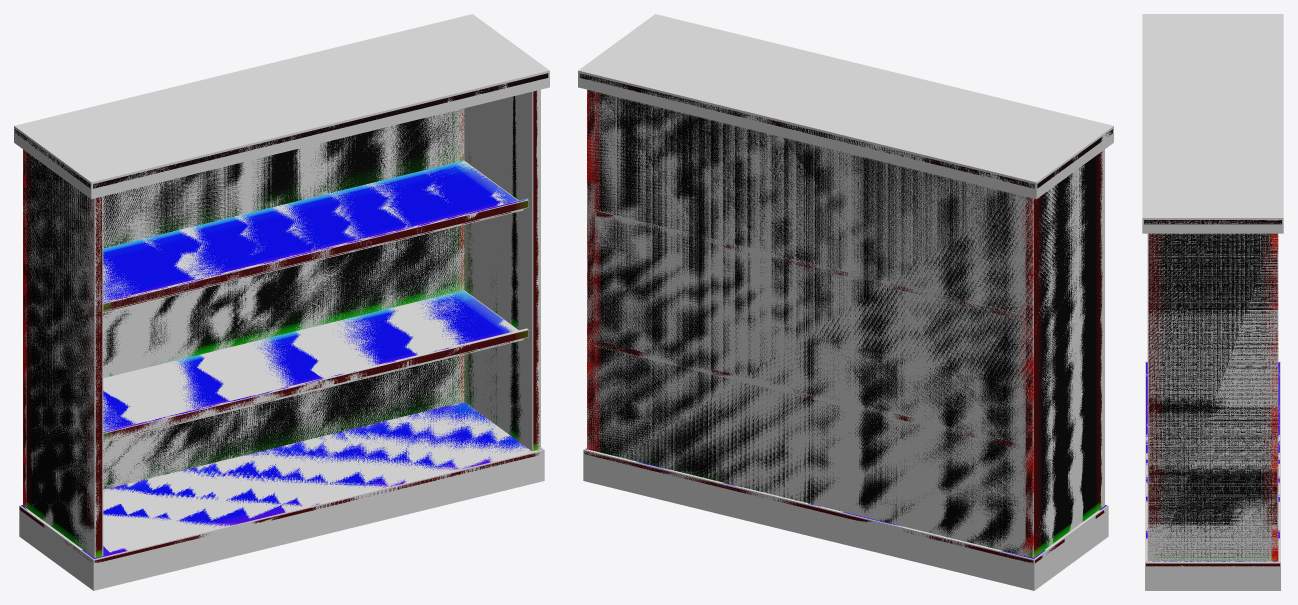
Rendered from prop_shop_case.fbx.
The picture shows the model from 3 angles, left to right: view 1: azimuth 30°, elevation 25°; view 2: azimuth 150°, elevation 25°; view 3: azimuth 270°, elevation 25°; orthographic projection. The views are drawn at different scales.
Visible parts, largest first — view 1: prop_shop_case, COL_3, COL_4, COL_0, COL_2, COL_5, COL_1, COL_7, COL_6, COL_8; view 2: COL_3, prop_shop_case, COL_4, COL_0, COL_1, COL_5, COL_2, COL_7; view 3: prop_shop_case, COL_2, COL_4, COL_0, COL_3.
Part boxes in pixels (bbox=[...]): prop_shop_case: bbox=[15, 73, 548, 562]; COL_3: bbox=[23, 108, 464, 507]; COL_4: bbox=[14, 14, 549, 199]; COL_0: bbox=[19, 402, 544, 590]; COL_2: bbox=[464, 89, 540, 451]; COL_5: bbox=[103, 290, 523, 442]; COL_1: bbox=[23, 152, 103, 557]; COL_7: bbox=[103, 160, 523, 312]; COL_6: bbox=[103, 328, 528, 440]; COL_8: bbox=[103, 198, 528, 311]; COL_3: bbox=[587, 91, 1033, 556]; prop_shop_case: bbox=[579, 73, 1112, 563]; COL_4: bbox=[578, 14, 1113, 199]; COL_0: bbox=[583, 447, 1108, 590]; COL_1: bbox=[1024, 149, 1104, 557]; COL_5: bbox=[596, 342, 1024, 450]; COL_2: bbox=[587, 90, 595, 449]; COL_7: bbox=[595, 210, 1023, 320]; prop_shop_case: bbox=[1144, 220, 1281, 566]; COL_2: bbox=[1147, 233, 1278, 561]; COL_4: bbox=[1142, 14, 1283, 233]; COL_0: bbox=[1145, 361, 1280, 590]; COL_3: bbox=[1271, 238, 1277, 559].
Size of the model in its own units: 1.85 by 1.58 by 0.54.
